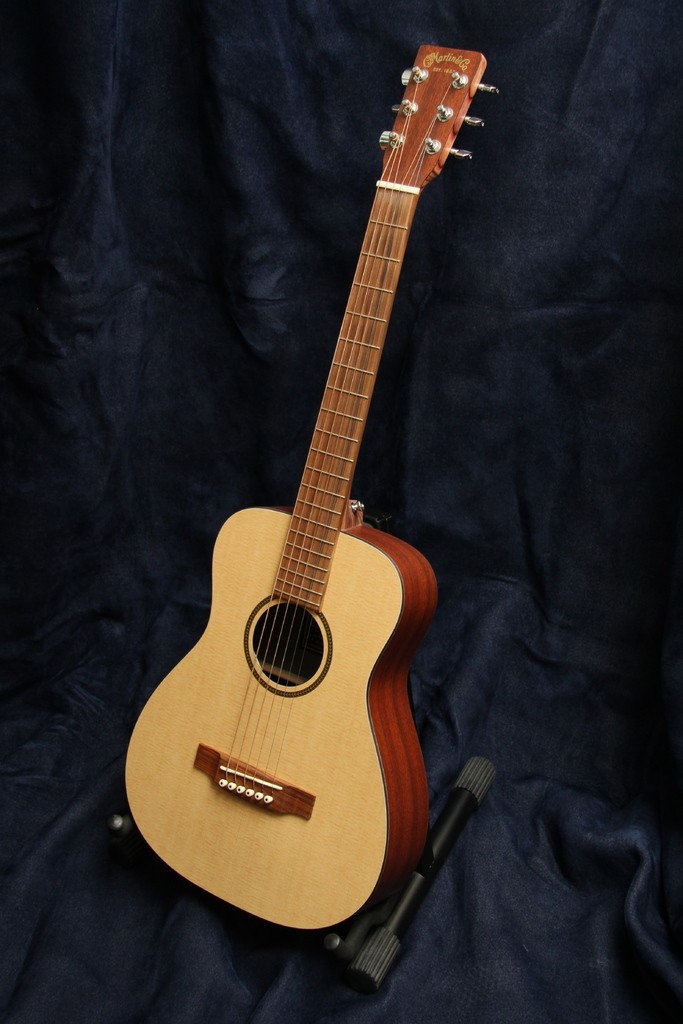guitar: (109, 44, 500, 994)
